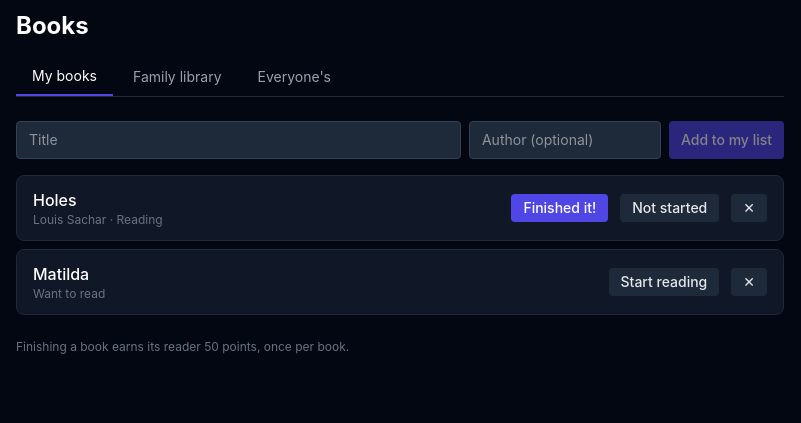
Scenario: BooksPage › viewers browse only, and errors are explained
Expected: the text "Holes" is shown, [33,190,77,210]
Click the button with aria-label "Start reading: Matilda".
click(664, 282)  # box [608,268,719,296]
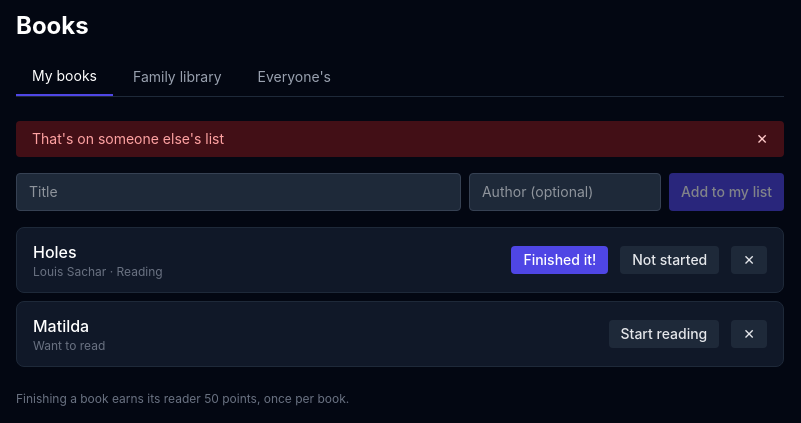
Result: the text "That's on someone else's list" is shown at [32,129,224,149]
